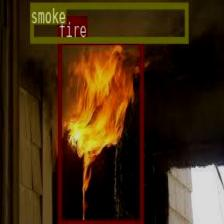fire: (58, 38, 142, 224)
smoke: (29, 2, 188, 42)
